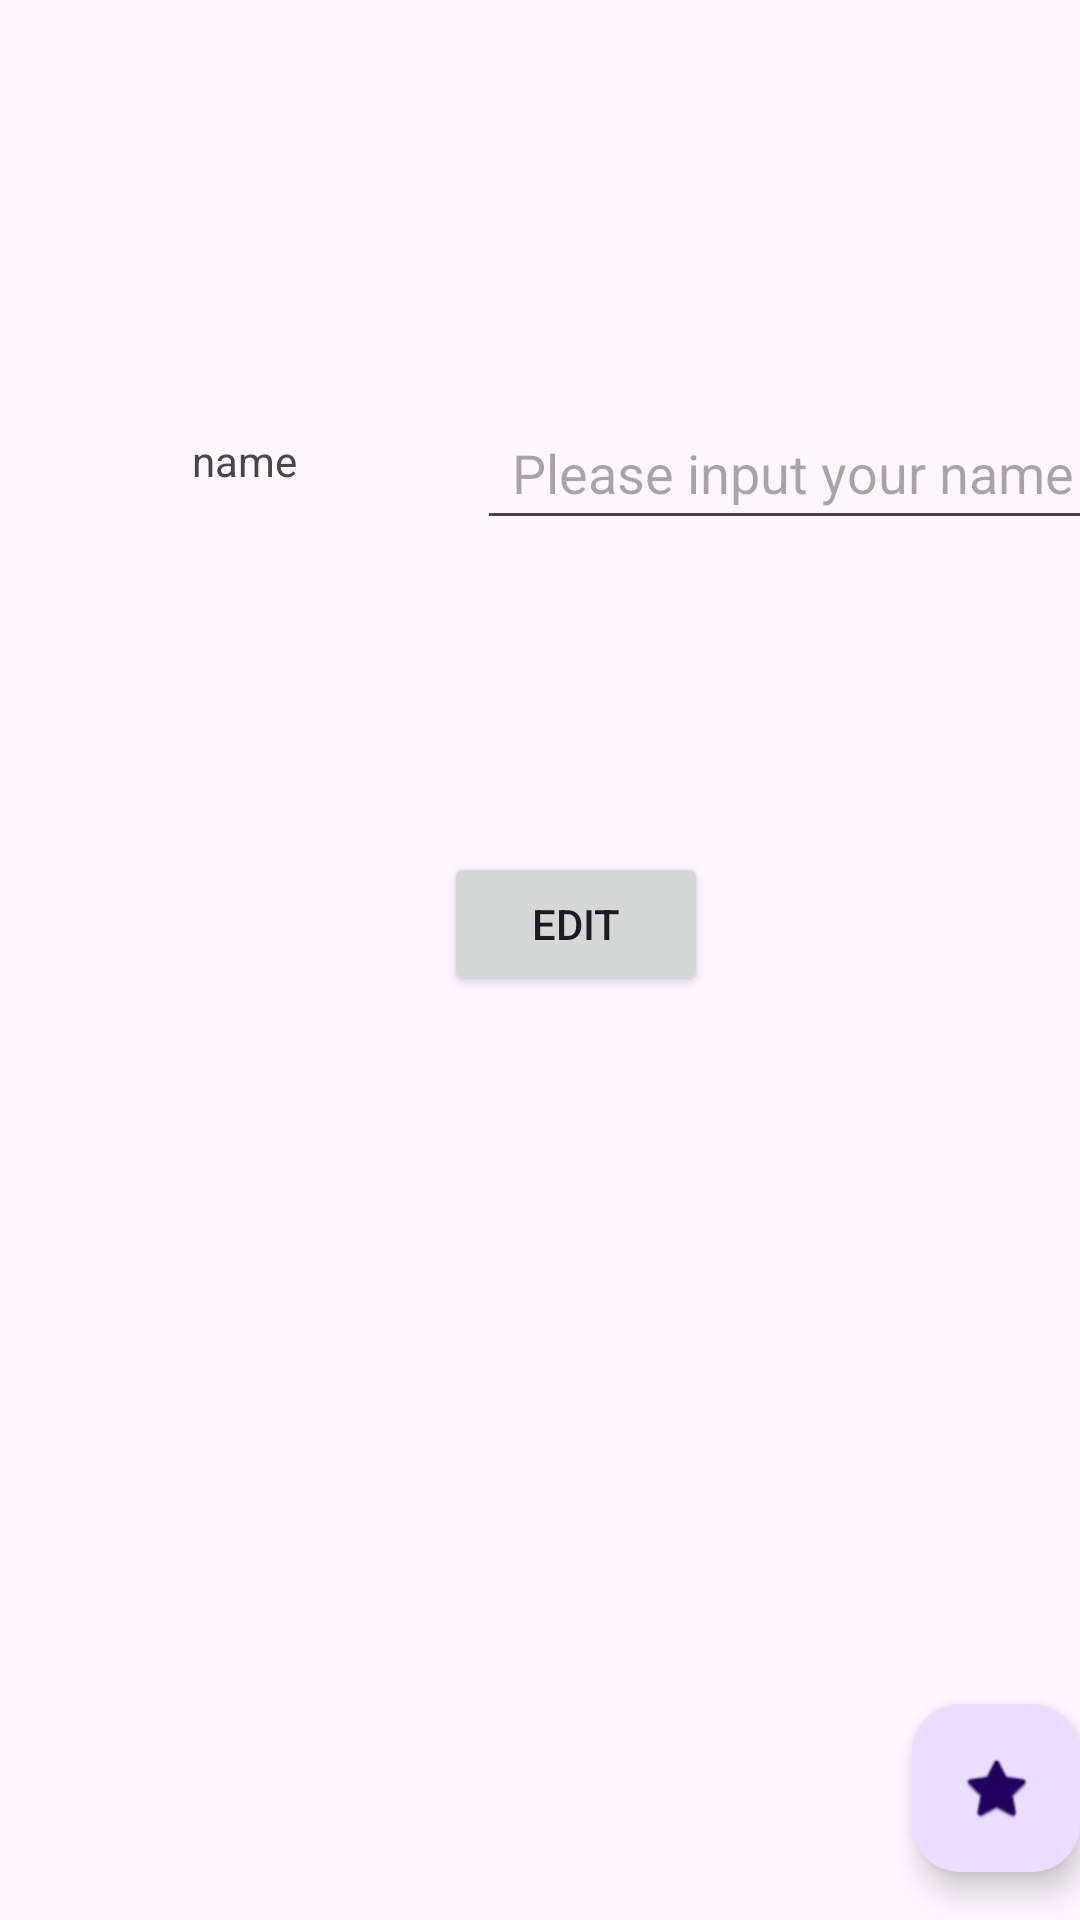

Icons on this 1080px x 1920px Android screen, each with the point to tap as point (x, y):
star on: point (996, 1788)
